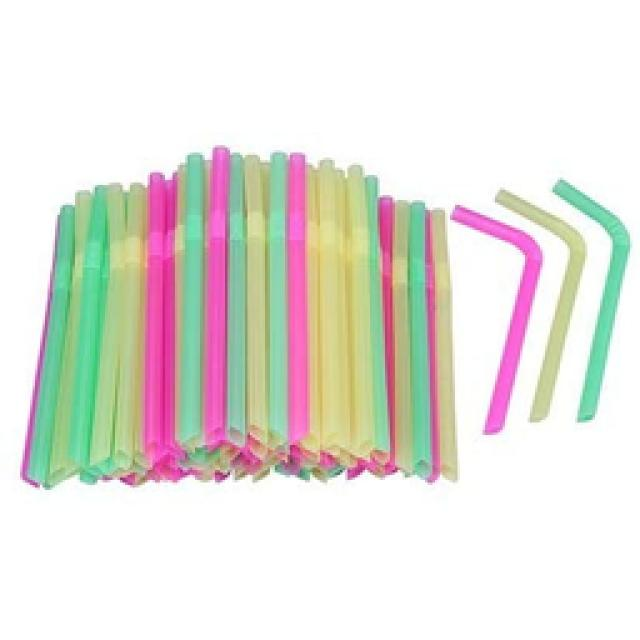plastic: (18, 145, 460, 487)
